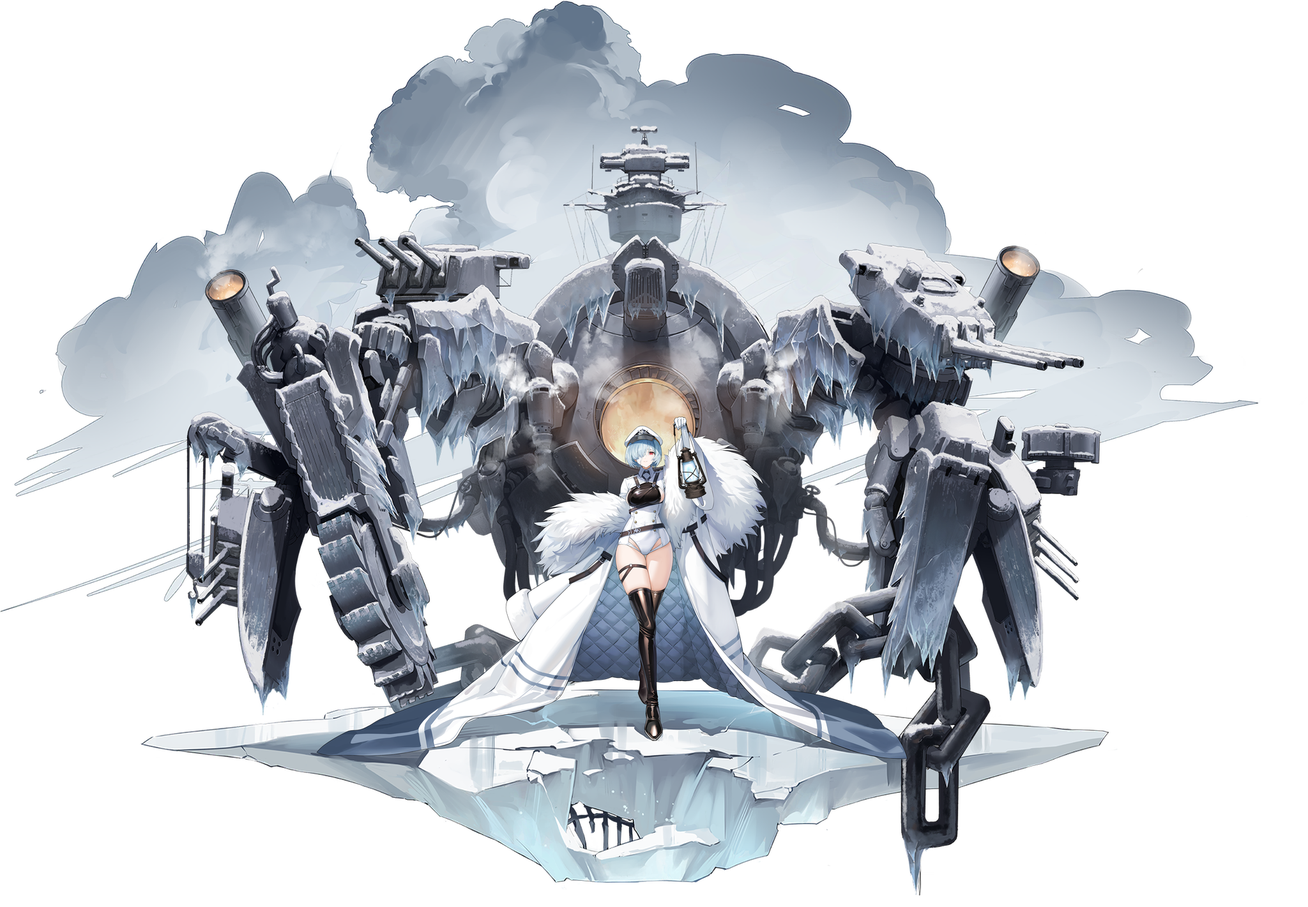person: (795, 220, 1097, 885)
